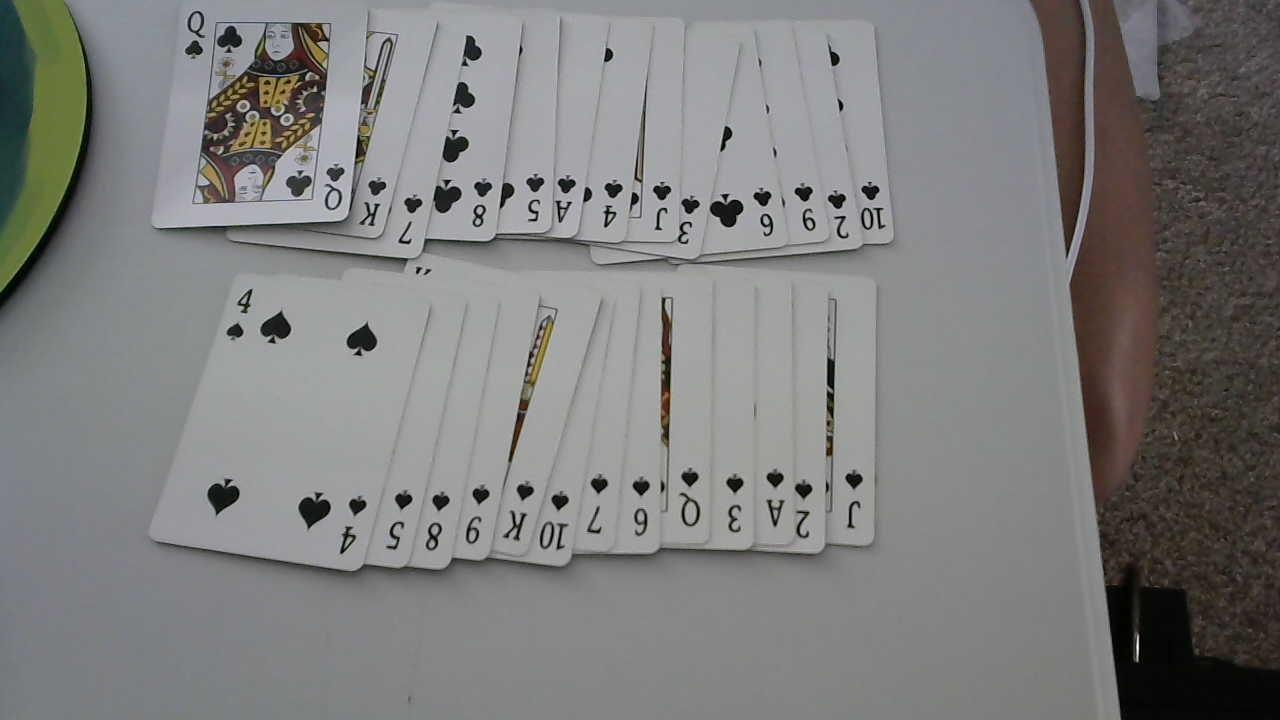10C: (855, 176, 889, 236)
10S: (536, 486, 574, 554)
2C: (821, 186, 855, 246)
2S: (790, 473, 819, 545)
3C: (673, 189, 708, 250)
3S: (719, 472, 749, 534)
4C: (598, 177, 625, 235)
4S: (334, 491, 370, 557), (223, 285, 253, 345)
5C: (522, 171, 550, 225)
5S: (385, 486, 418, 556)
6C: (749, 182, 779, 243)
6S: (628, 475, 659, 538)
7C: (394, 192, 428, 249)
7S: (583, 471, 613, 533)
8C: (469, 170, 498, 233)
8S: (419, 487, 455, 557)
9C: (789, 179, 822, 244)
9S: (463, 477, 498, 549)
AC: (553, 169, 581, 227)
AS: (763, 464, 788, 535)
JC: (650, 176, 675, 237)
JS: (841, 463, 867, 533)
KC: (356, 174, 390, 232)
KS: (498, 476, 538, 547)
QC: (179, 4, 212, 61), (319, 156, 347, 216)
QS: (678, 465, 702, 527)
